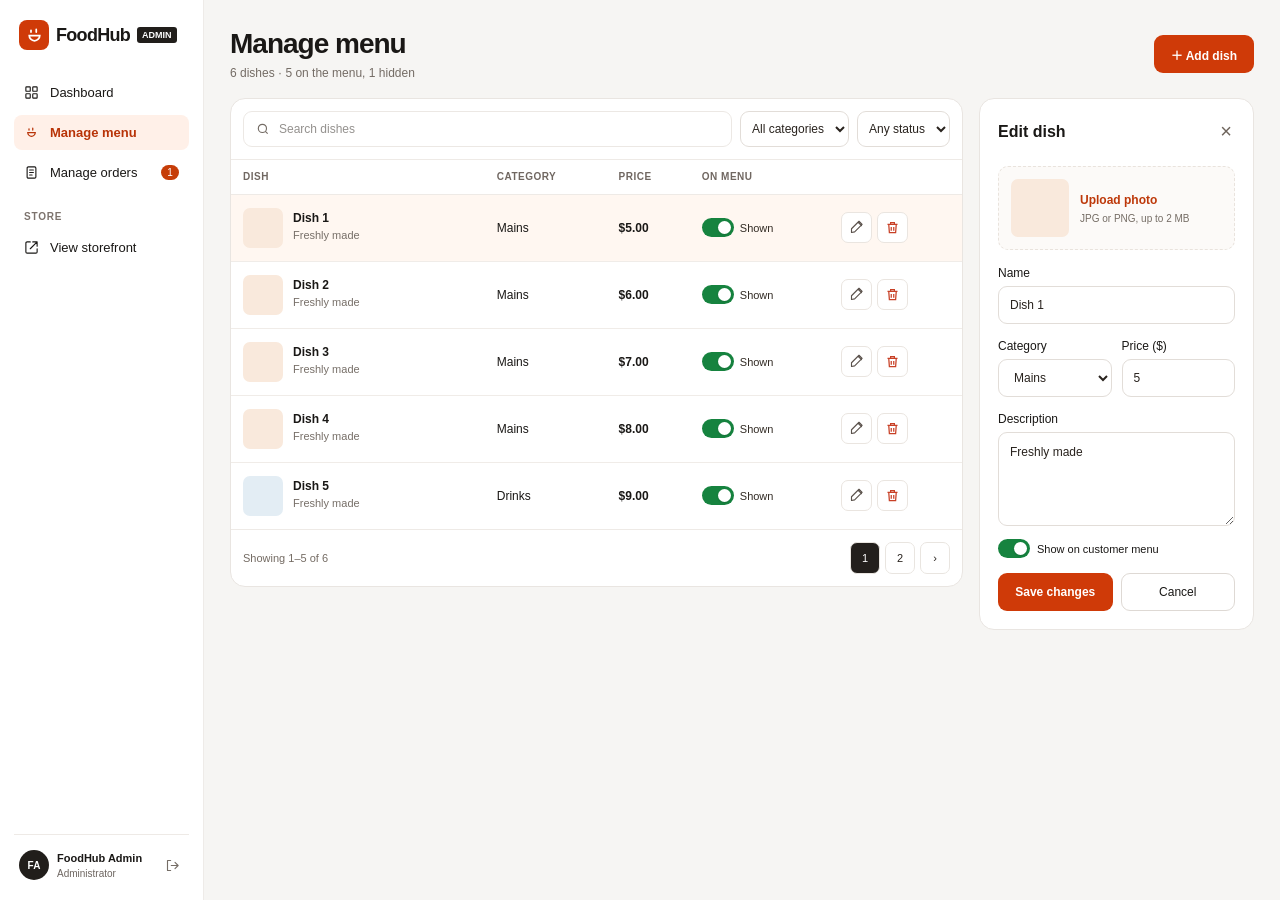
React administration › toggles menu visibility and displays the saved state
Check: the heading "Manage menu" is shown, box [230,28,415,60]
What coordinates should you click on to do the following:
click the switch named "Hide Dish 1"
I would click on:
 (738, 228)
Its box is [702,218,773,237].
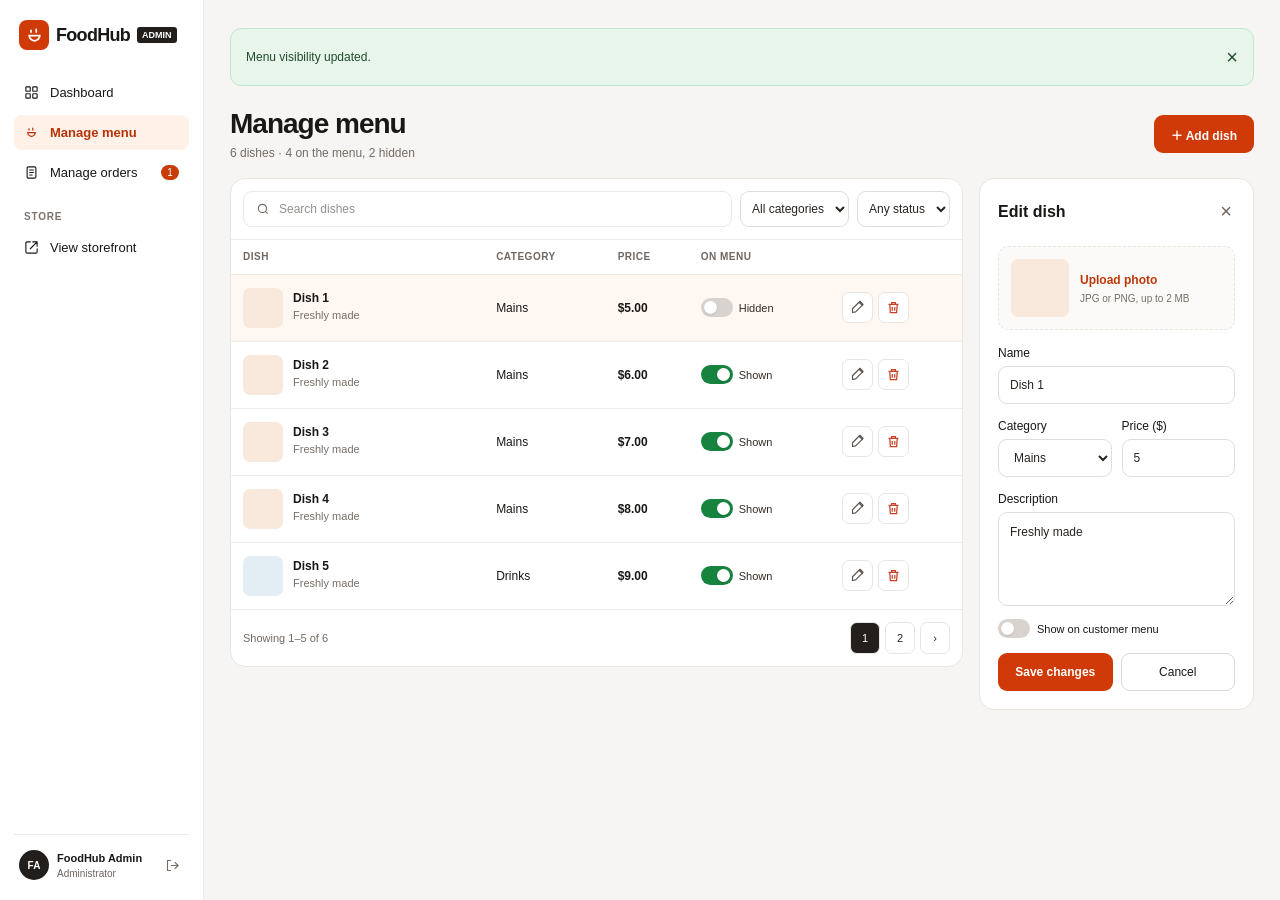
Check: the text "Menu visibility updated." is shown, box [246,50,371,64]
